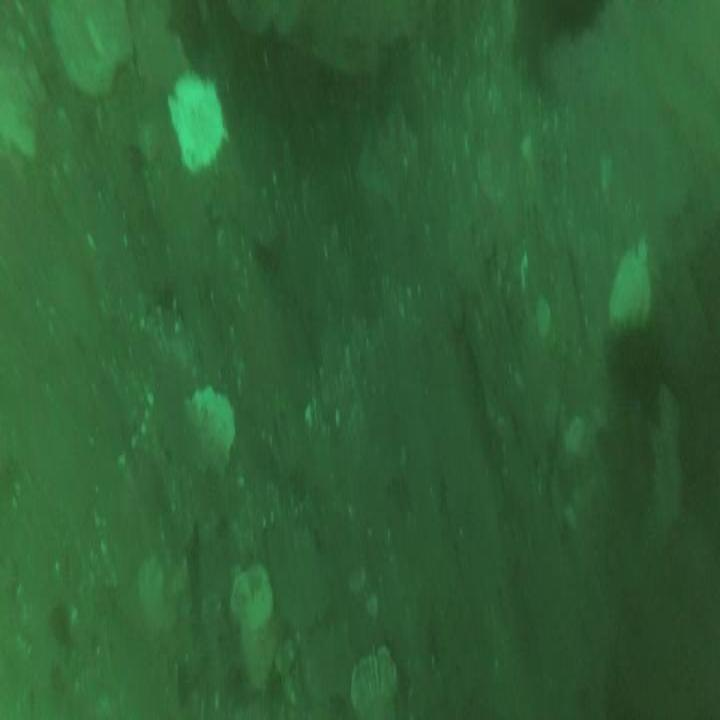echinus: (603, 318, 663, 430)
scallop: (46, 5, 132, 105), (164, 64, 225, 181)
